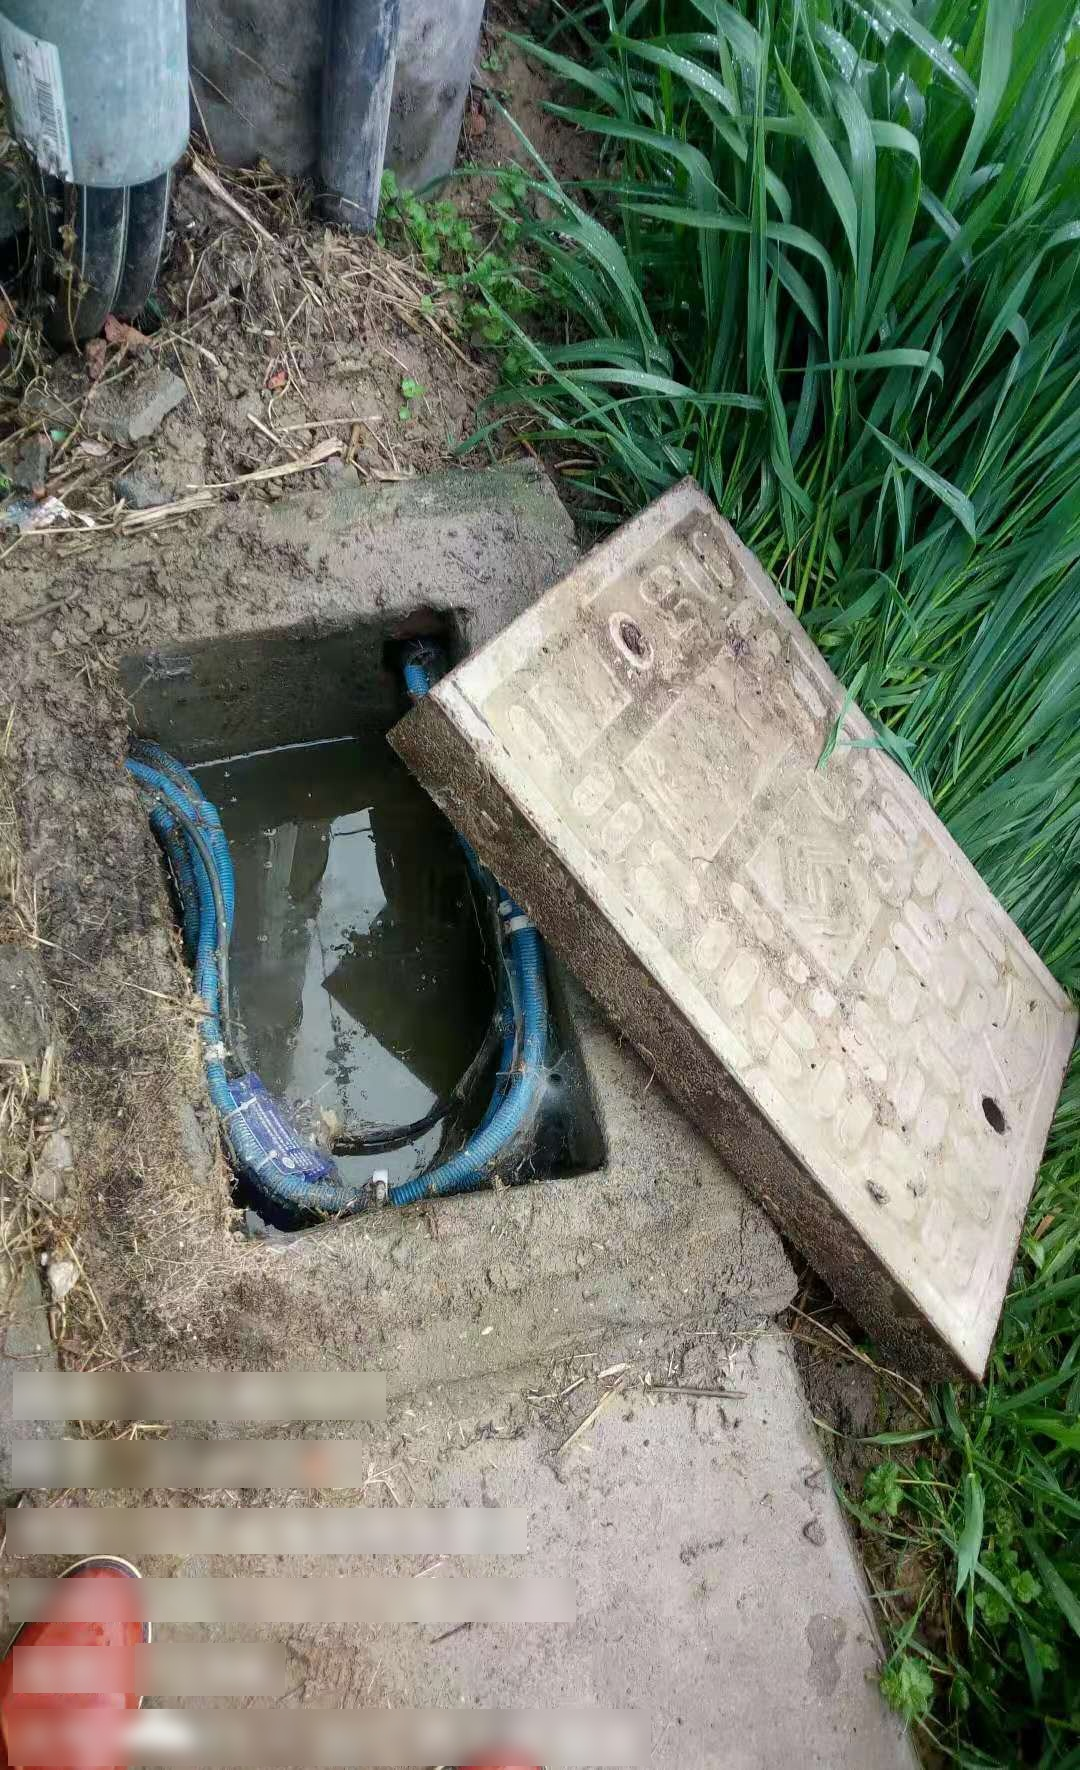uncovered: (9, 458, 1079, 1413)
